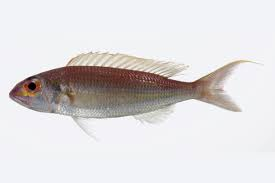Ikan Kerisi: (7, 56, 241, 120)
